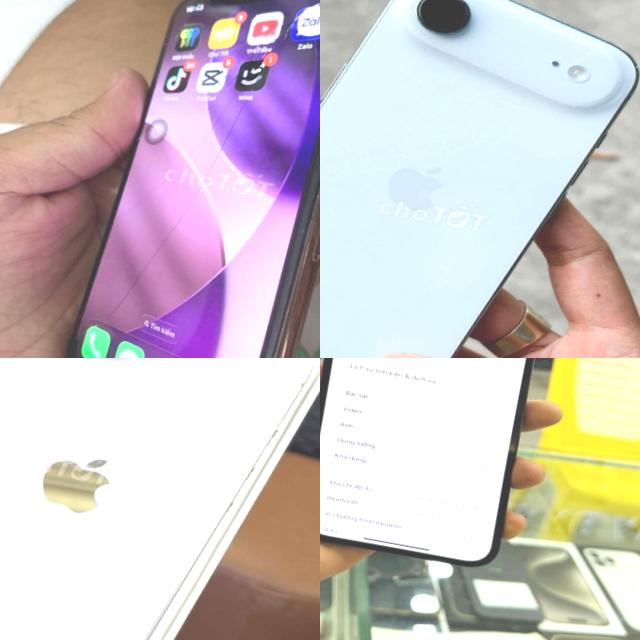gen_11: (37, 0, 320, 358)
gen_12_13: (320, 358, 561, 577)
gen_14: (0, 358, 320, 640)
gen_17: (320, 0, 640, 358)
physical_damage: (86, 0, 320, 358)
scratch: (235, 323, 294, 358)
